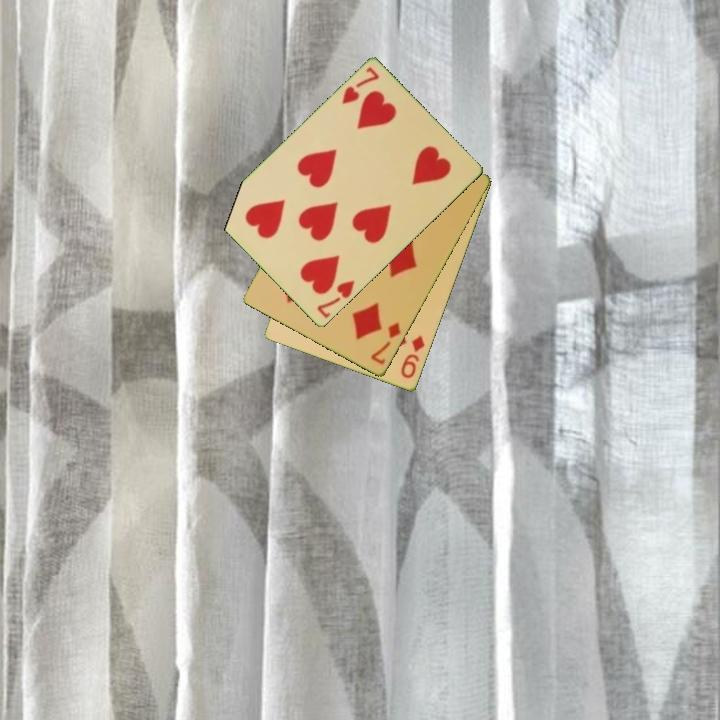7d: (367, 319, 404, 368)
7h: (313, 277, 358, 322), (338, 64, 382, 108)
9d: (397, 332, 428, 382)
